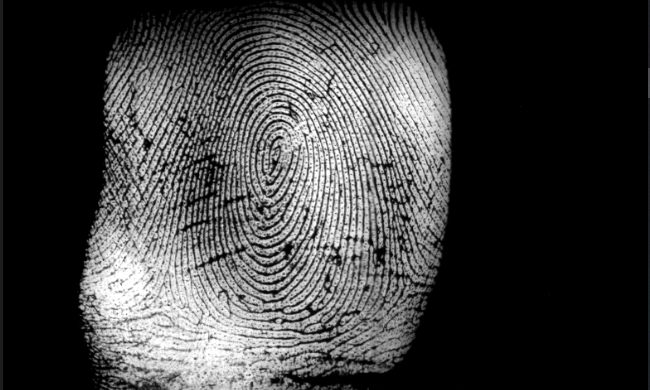nucelo: (260, 125, 290, 176)
verticilo: (393, 268, 425, 299), (153, 268, 175, 297)
